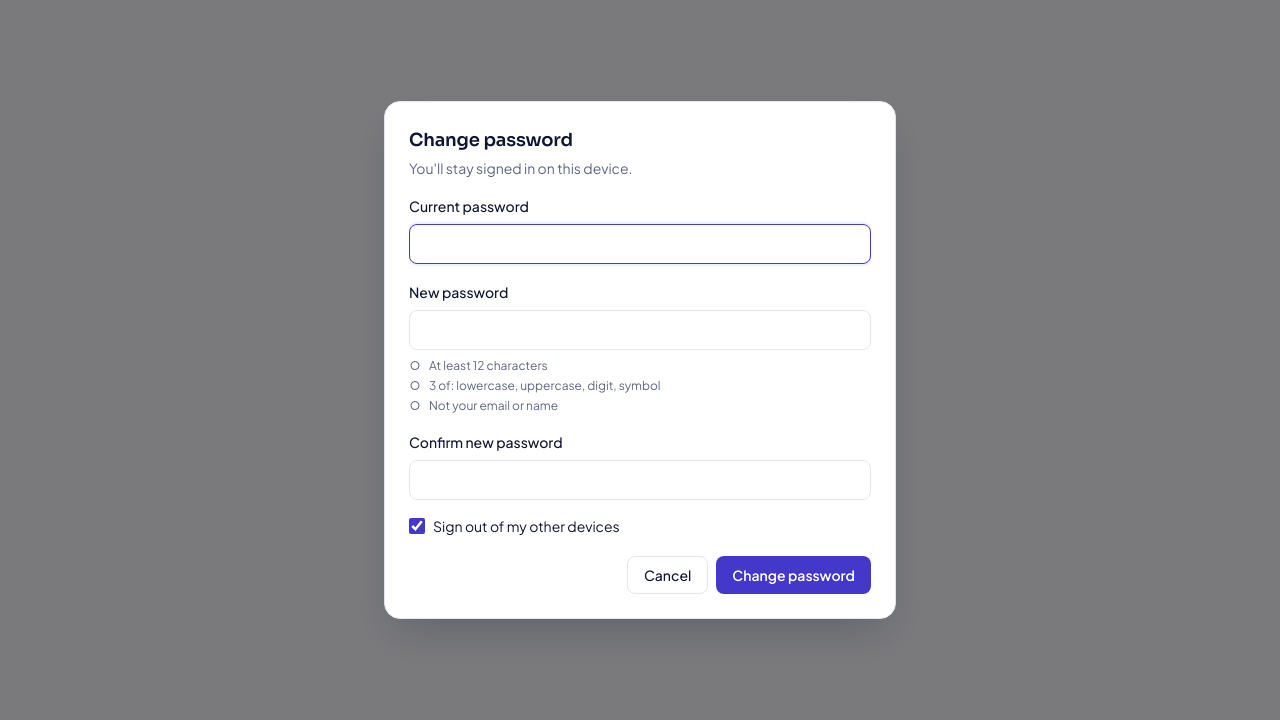
ChangePasswordDialog › shows every problem and sends nothing when the form is empty
The image size is (1280, 720).
Click the button "Change password": [794, 575] box [716,556,871,594]
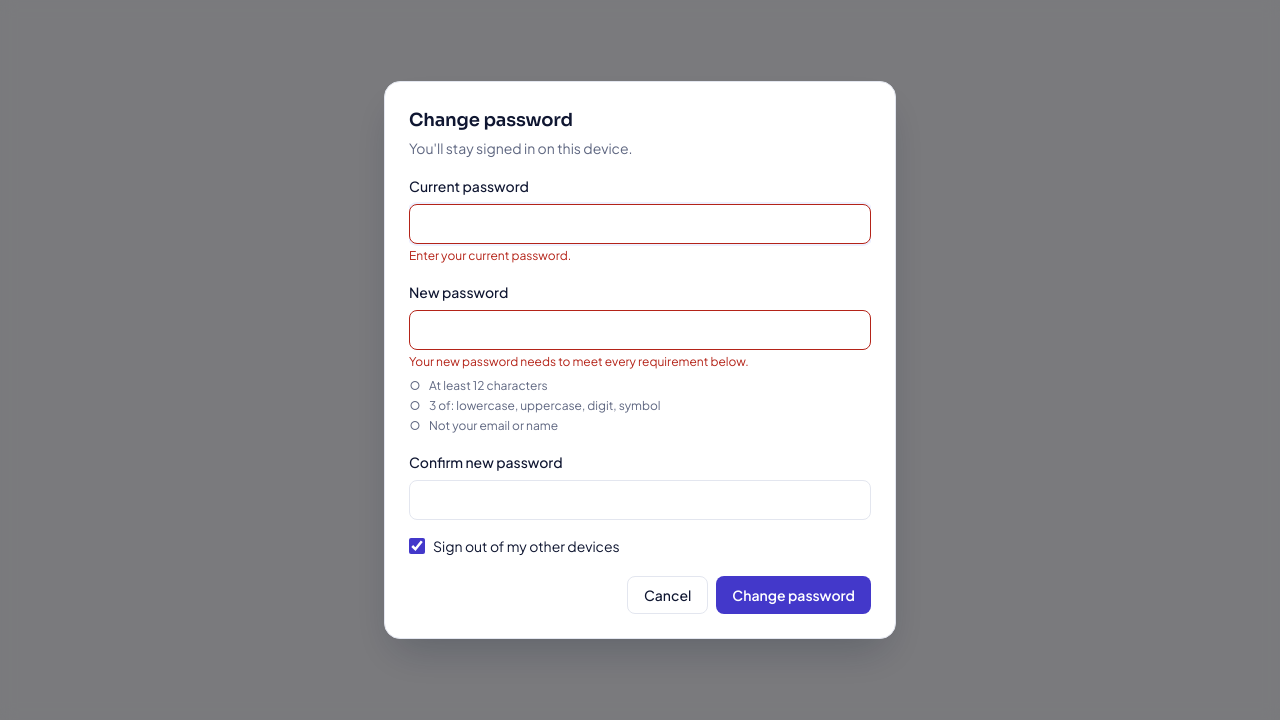
Check: the text "Enter your current password." is shown, box [409,248,571,263]
Check: the text "Your new password needs to meet every requirement below." is shown, box [409,354,749,369]
